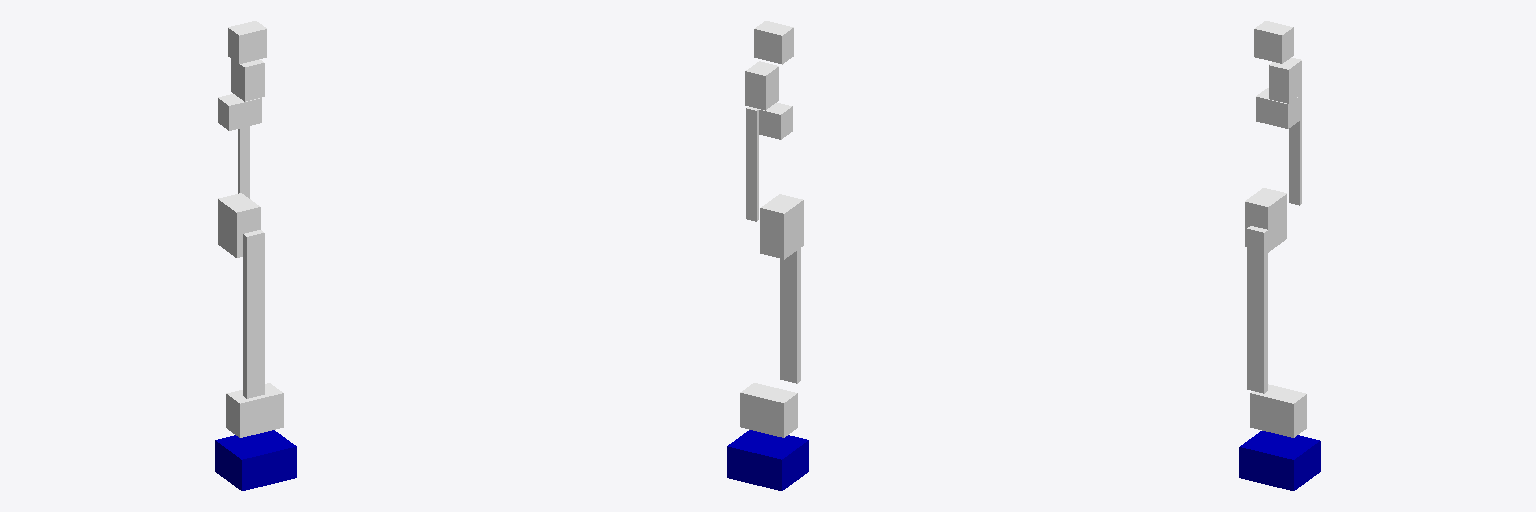
The robot description file, URDF, robot "myfirst":
<?xml version="1.0"?>
<robot name="myfirst">

  <material name="white">
    <color rgba="1 1 1 1"/>
  </material>

<material name="blue">
    <color rgba="0 0 0.8 1"/>
  </material>

 <link name="base_link">
    <visual>
 <origin rpy="0 0 0" xyz="0 0 0"/>
          <geometry>
         <mesh filename="package://urdf_tutorial/meshes/joint_6_5.stl"/>
	</geometry>
      <material name="white"/>
    </visual>
  </link>

 <link name="servo_2">
    <visual>
      <geometry>
        <box size="0.78 0.66 0.43"/>
      </geometry>
      <origin rpy="0 0 0" xyz="-0.14 0 0.355"/>
      <material name="blue"/>
    </visual>
  </link>

 <link name="servo_3">
    <visual>
      <geometry>
        <box size="0.62 0.34 0.47"/>
      </geometry>
      <origin rpy="0 0 0" xyz="0.16 0 0.663"/>
      <material name="white"/>
    </visual>
  </link>

 <link name="arm_1">
    <visual>
      <geometry>
        <box size="0.25 0.1 2.2"/>
      </geometry>
      <origin rpy="0 0 0" xyz="0 0.25 1.1"/>
      <material name="white"/>
    </visual>
  </link>

 <link name="servo_4">
    <visual>
      <geometry>
        <box size="0.34 0.47 0.62"/>
      </geometry>
      <origin rpy="0 0 0" xyz="0.045 -0.035 0"/>
      <material name="white"/>
    </visual>
  </link>

 <link name="arm_2">
    <visual>
      <geometry>
        <box size="0.15 0.05 1.5"/>
      </geometry>
      <origin rpy="0 0 0" xyz="-0.245 -0.025 0.75"/>
      <material name="white"/>
    </visual>
  </link>

 <link name="servo_5">
    <visual>
      <geometry>
        <box size="0.465 0.285 0.34"/>
      </geometry>
      <origin rpy="0 0 0" xyz="0.1575 0.1425 -0.17"/>
      <material name="white"/>
    </visual>
  </link>

 <link name="servo_6">
    <visual>
      <geometry>
        <box size="0.285 0.34 0.465"/>
      </geometry>
      <origin rpy="0 0 0" xyz="0 0 0.2875"/>
      <material name="white"/>
    </visual>
  </link>

 <link name="servo_7">
    <visual>
      <geometry>
        <box size="0.40 0.28 0.39"/>
      </geometry>
      <origin rpy="0 0 0" xyz="0.0375 0 0.425"/>
      <material name="white"/>
    </visual>
  </link>


  <joint name="joint_1" type="revolute">
    <axis rpy="0 0 0" xyz="0 0 1"/>
    <limit effort ="1000.0" lower="-3.14" upper="3.14" velocity="0.5"/>
    <parent link="base_link"/>
    <child link="servo_2"/>
    <origin rpy="0 0 0" xyz="-0.16 0 0.513"/>
  </joint>

  <joint name="joint_2" type="revolute">
    <axis rpy="0 0 0" xyz="0 1 0"/>
    <limit effort ="1000.0" lower="-3.14" upper="3.14" velocity="0.5"/>
    <parent link="servo_2"/>
    <child link="servo_3"/>
    <origin rpy="0 0 0" xyz="-0.315 0 0.355"/>
  </joint>

 <joint name="joint_2_arm_1" type="revolute">
    <axis rpy="0 0 0" xyz="0 0 1"/>
    <limit effort ="1000.0" lower="-3.14" upper="3.14" velocity="0.5"/>
    <parent link="servo_3"/>
    <child link="arm_1"/>
    <origin rpy="0 0 3.14" xyz="0 0 1.008"/>
  </joint>

  <joint name="arm_1_servo_4" type="fixed">
    <axis rpy="0 0 0" xyz="0 1 0"/>
    <limit effort ="1000.0" lower="-3.14" upper="3.14" velocity="0.5"/>
    <parent link="arm_1"/>
    <child link="servo_4"/>
    <origin rpy="0 0 0" xyz="0 0 2.2"/>
  </joint>


<joint name="servo_4_arm_2" type="revolute">
    <axis rpy="0 0 0" xyz="0 1 0"/>
    <limit effort ="1000.0" lower="-3.14" upper="3.14" velocity="0.5"/>
    <parent link="servo_4"/>
    <child link="arm_2"/>
    <origin rpy="0 0 0" xyz="0.045 -0.313 0.16"/>
  </joint>

  <joint name="arm_2_servo_5" type="fixed">
    <axis rpy="0 0 0" xyz="0 1 0"/>
    <limit effort ="1000.0" lower="-3.14" upper="3.14" velocity="0.5"/>
    <parent link="arm_2"/>
    <child link="servo_5"/>
    <origin rpy="0 0 0" xyz="-0.245 0 1.5"/>
  </joint>

<joint name="servo_5_servo_6" type="revolute">
    <axis rpy="0 0 0" xyz="0 0 1"/>
    <limit effort ="1000.0" lower="-3.14" upper="3.14" velocity="0.5"/>
    <parent link="servo_5"/>
    <child link="servo_6"/>
    <origin rpy="0 0 0" xyz="0.045 0.1425 -0.0325"/>
  </joint>

<joint name="servo_6_servo_7" type="revolute">
    <axis rpy="0 0 0" xyz="0 1 0"/>
    <limit effort ="1000.0" lower="-3.14" upper="3.14" velocity="0.5"/>
    <parent link="servo_6"/>
    <child link="servo_7"/>
    <origin rpy="0 0 0" xyz="0.045 0.1425 0.41"/>
  </joint>



</robot>

--- Facts derived from the render (not from the file) ---
The picture shows the robot from 3 angles, left to right: view 1: azimuth 30°, elevation 25°; view 2: azimuth 150°, elevation 25°; view 3: azimuth 330°, elevation 25°; orthographic projection.
Robot: myfirst — 9 links, 8 joints (6 revolute, 2 fixed); root link base_link; default pose: all joints at 0.
Links seen in each view (by area): view 1: servo_2, arm_1, servo_3, servo_4, servo_7, servo_5, servo_6, arm_2; view 2: servo_2, arm_1, servo_3, servo_4, servo_7, arm_2, servo_6, servo_5; view 3: servo_2, arm_1, servo_3, servo_4, servo_7, servo_6, servo_5, arm_2.
Boxes of the visible links, left/top/right/bottom form: servo_2: left=215, top=430, right=296, bottom=490; arm_1: left=243, top=230, right=264, bottom=398; servo_3: left=226, top=383, right=283, bottom=437; servo_4: left=218, top=193, right=260, bottom=257; servo_7: left=228, top=21, right=266, bottom=63; servo_5: left=218, top=94, right=261, bottom=130; servo_6: left=231, top=59, right=264, bottom=101; arm_2: left=238, top=126, right=249, bottom=198; servo_2: left=727, top=430, right=808, bottom=490; arm_1: left=780, top=248, right=800, bottom=383; servo_3: left=740, top=383, right=797, bottom=437; servo_4: left=760, top=194, right=803, bottom=259; servo_7: left=754, top=21, right=793, bottom=64; arm_2: left=746, top=107, right=758, bottom=221; servo_6: left=745, top=61, right=778, bottom=110; servo_5: left=751, top=103, right=792, bottom=139; servo_2: left=1239, top=431, right=1320, bottom=490; arm_1: left=1247, top=226, right=1267, bottom=393; servo_3: left=1250, top=384, right=1306, bottom=437; servo_4: left=1245, top=188, right=1286, bottom=252; servo_7: left=1254, top=21, right=1293, bottom=63; servo_6: left=1269, top=57, right=1301, bottom=103; servo_5: left=1256, top=88, right=1299, bottom=128; arm_2: left=1289, top=95, right=1301, bottom=205.
Bounding box of the posed robot: 0.7803 × 0.6928 × 6.08 m (x, y, z).
0 mesh visuals loaded from 1 distinct referenced files (none loaded); not drawn: 1 (reference not matched to a file when rendering).